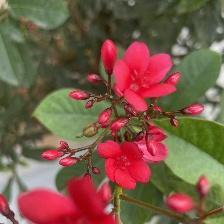jatropha: (115, 40, 178, 112)
